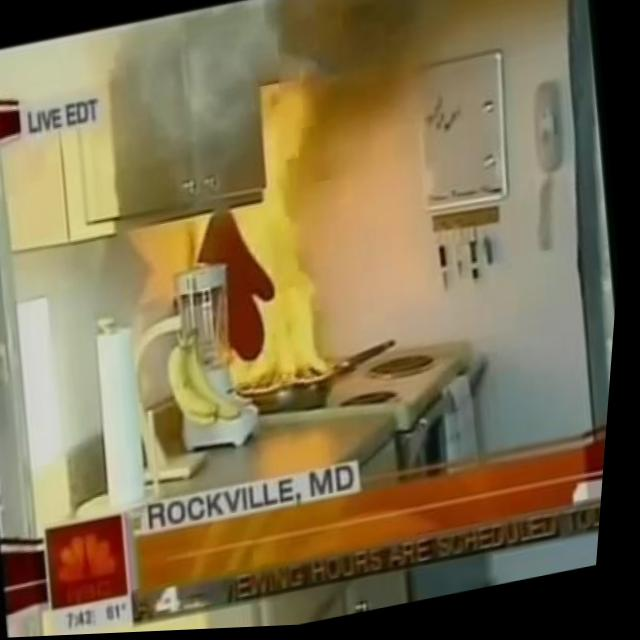fire: (169, 73, 365, 407)
